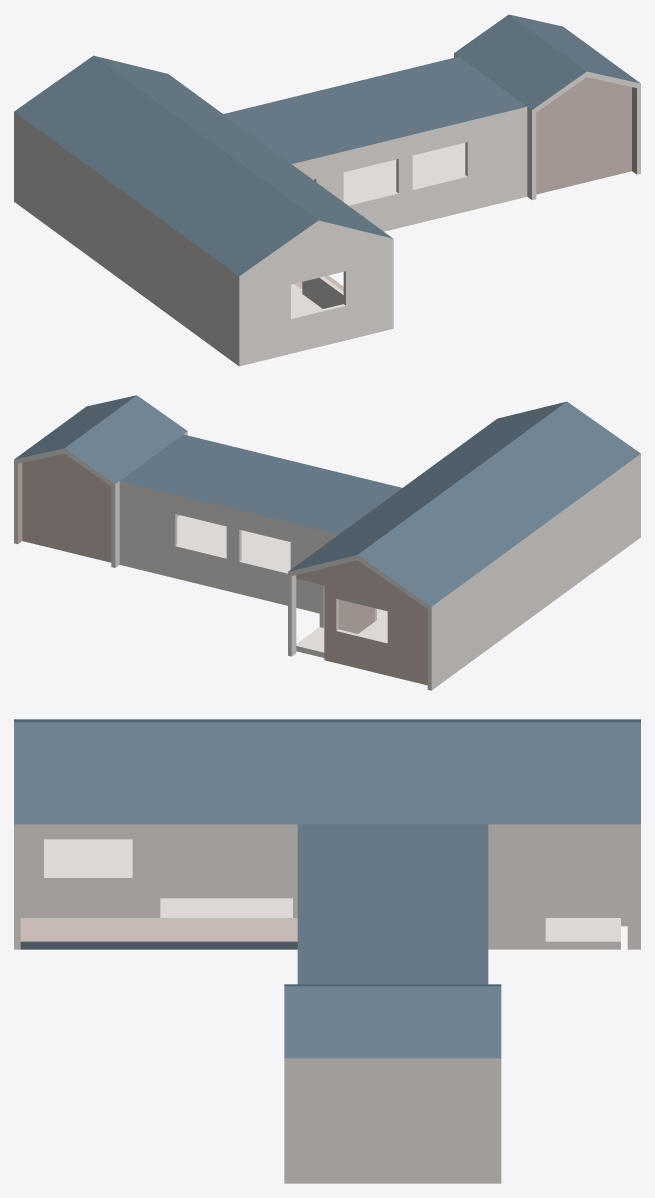
Rendered from SM_HouseTemporal_V2.fbx.
3 views of the same model, one above another, from view 1: azimuth 30°, elevation 25°; view 2: azimuth 150°, elevation 25°; view 3: azimuth 270°, elevation 25° (orthographic). The views are drawn at different scales.
Parts seen in each view (by area): view 1: Roof_2, exterior_wall_7, Roof_3, exterior_wall_6, exterior_wall_2, exterior_wall_5, Roof_1, Roof_4, floor, Roof_5, wall_1, wall_8 (+1 smaller); view 2: Roof_2, exterior_wall_7, Roof_3, exterior_wall_1, exterior_wall_3, exterior_wall_4, Roof_1, Roof_4, floor, Roof_5, wall_2, exterior_wall_9 (+2 smaller); view 3: Roof_1, Roof_3, exterior_wall_8, Roof_5, exterior_wall_9, floor_2, wall_1, floor, wall_5, wall_2, exterior_wall_10, Roof_2 (+1 smaller).
Part boxes in pixels (left/top/right/bottom): Roof_2: left=14, top=55, right=318, bottom=278; exterior_wall_7: left=14, top=112, right=243, bottom=366; Roof_3: left=223, top=56, right=527, bottom=170; exterior_wall_6: left=243, top=226, right=389, bottom=365; exterior_wall_2: left=295, top=110, right=527, bottom=231; exterior_wall_5: left=536, top=77, right=631, bottom=194; Roof_1: left=94, top=56, right=392, bottom=243; Roof_4: left=454, top=14, right=586, bottom=112; floor: left=291, top=143, right=465, bottom=316; Roof_5: left=509, top=14, right=640, bottom=87; wall_1: left=291, top=276, right=343, bottom=308; wall_8: left=454, top=53, right=536, bottom=200; Roof_2: left=357, top=401, right=640, bottom=609; exterior_wall_7: left=427, top=454, right=640, bottom=690; Roof_3: left=119, top=434, right=401, bottom=540; exterior_wall_1: left=119, top=489, right=330, bottom=613; exterior_wall_3: left=296, top=560, right=427, bottom=685; exterior_wall_4: left=22, top=453, right=111, bottom=562; Roof_1: left=288, top=401, right=566, bottom=575; Roof_4: left=64, top=395, right=187, bottom=486; floor: left=177, top=515, right=387, bottom=657; Roof_5: left=14, top=395, right=136, bottom=463; wall_2: left=338, top=599, right=374, bottom=633; exterior_wall_9: left=288, top=572, right=324, bottom=656; Roof_1: left=14, top=722, right=640, bottom=824; Roof_3: left=297, top=824, right=488, bottom=984; exterior_wall_8: left=284, top=1058, right=501, bottom=1183; Roof_5: left=284, top=986, right=501, bottom=1058; exterior_wall_9: left=488, top=824, right=640, bottom=949; floor_2: left=20, top=918, right=297, bottom=949; wall_1: left=20, top=838, right=297, bottom=917; floor: left=44, top=839, right=620, bottom=949; wall_5: left=160, top=838, right=292, bottom=898; wall_2: left=545, top=838, right=620, bottom=917; exterior_wall_10: left=14, top=824, right=297, bottom=949; Roof_2: left=14, top=719, right=640, bottom=722.
Size of the model in its own units: 18.1 by 4.39 by 14.15.
